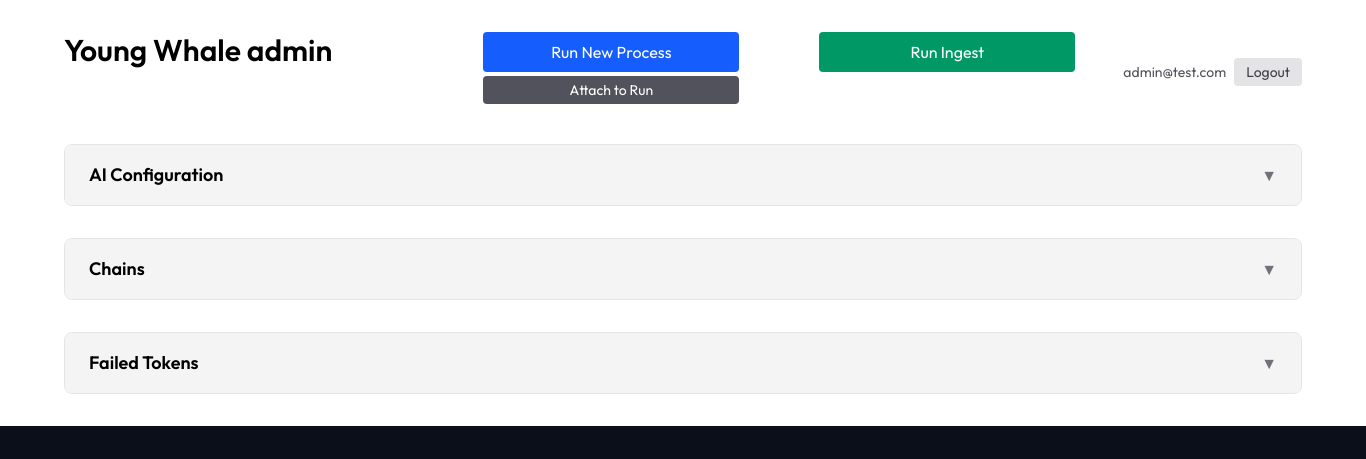
Test: Admin page › shows error when process API fails
Click the button "Run New Process" at {"x": 611, "y": 52}, box [483, 32, 739, 72]
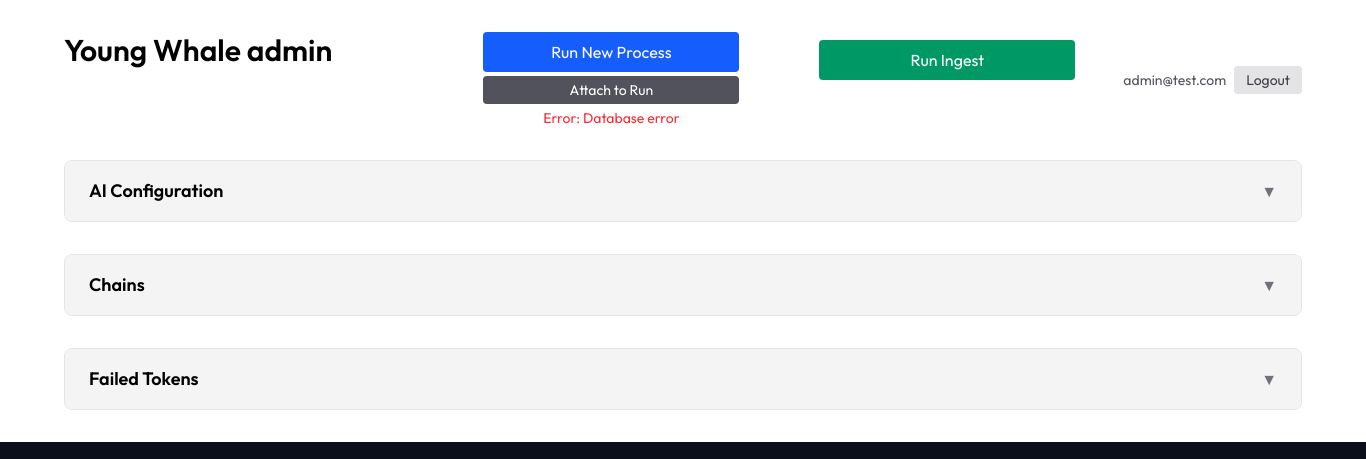
Result: the text "Error: Database error" is shown at [543, 108, 680, 128]
